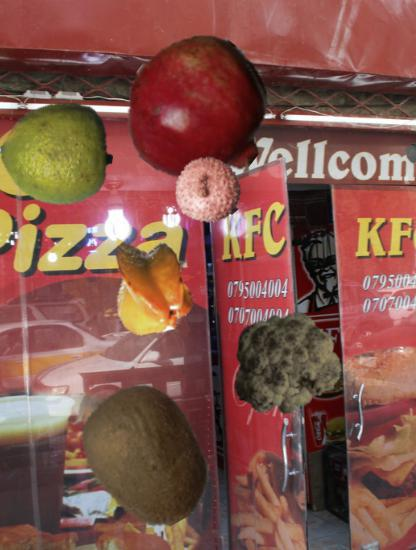Carambula: (104, 238, 201, 335)
Cauliflower: (224, 306, 340, 422)
Kiwi: (73, 382, 220, 529)
Limes: (0, 96, 113, 209)
Lychee: (173, 156, 242, 225)
Pomegranate: (126, 37, 273, 184)
